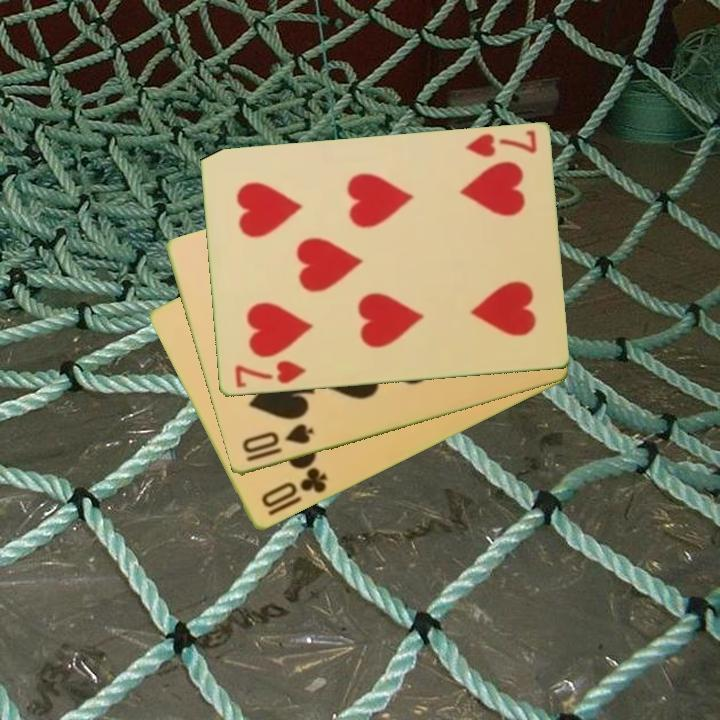10c: (257, 464, 331, 511)
10s: (238, 420, 317, 465)
7h: (231, 357, 309, 392), (461, 127, 539, 161)
